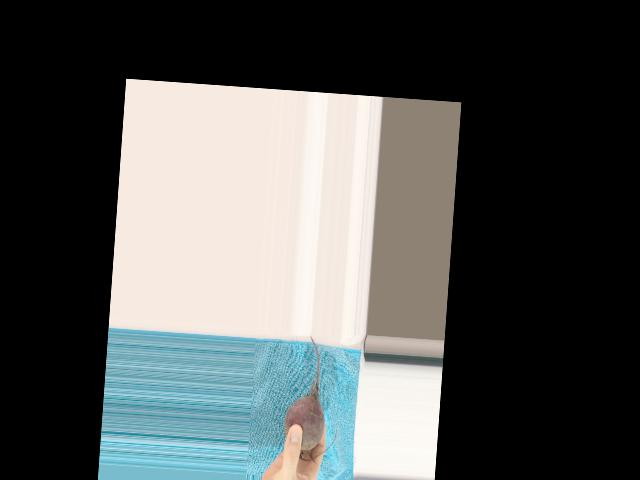beet: (281, 334, 342, 462)
